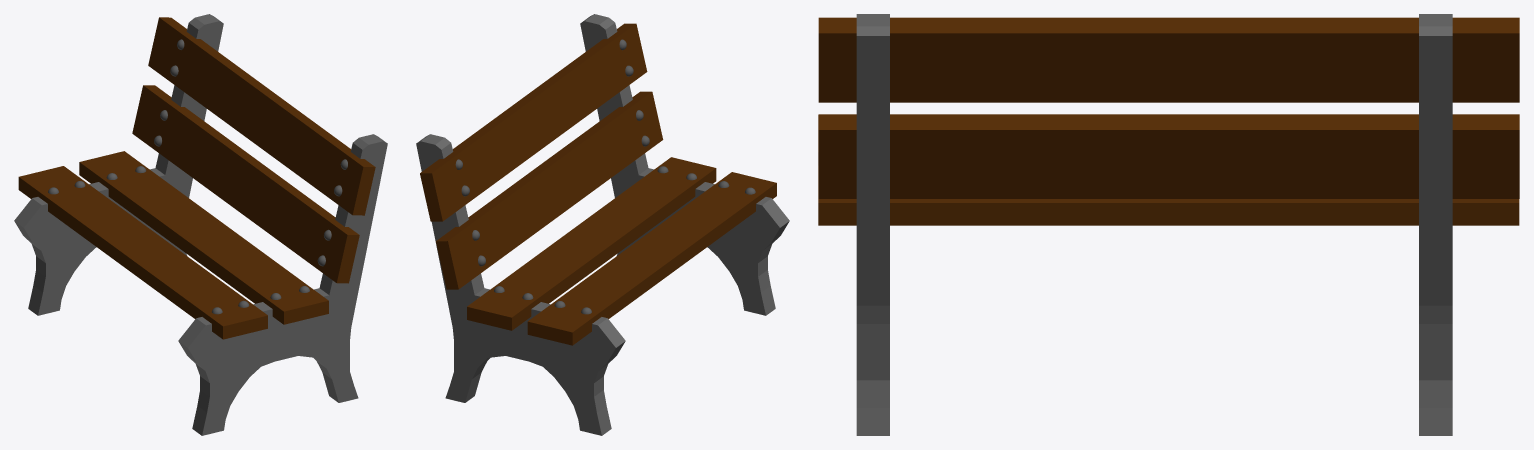
File: banco.fbx
3 views of the same model, side by side, from view 1: azimuth 30°, elevation 25°; view 2: azimuth 150°, elevation 25°; view 3: azimuth 270°, elevation 25° (orthographic). The views are drawn at different scales.
Visible parts, largest first — view 1: Banco; view 2: Banco; view 3: Banco.
Boxes of the visible parts, box(x1,y1,x2,y2) form: Banco: box(14, 14, 387, 435); Banco: box(416, 14, 789, 435); Banco: box(818, 14, 1519, 435).
Size of the model in its own units: 227 by 273 by 403.
